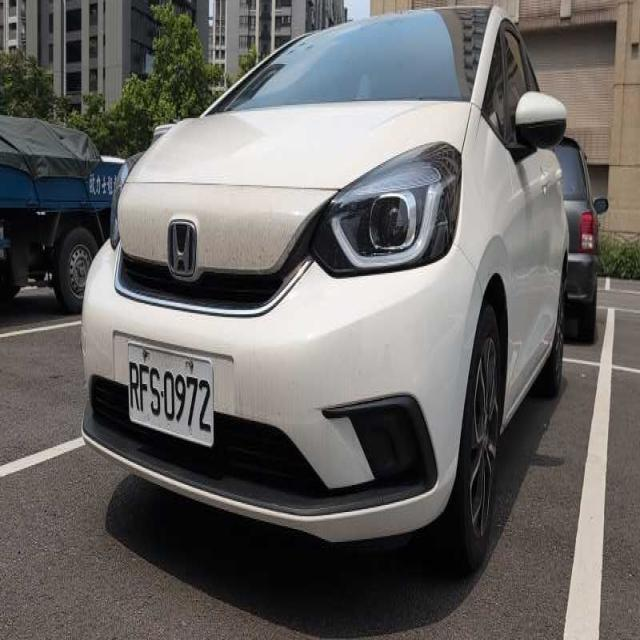license plate: (126, 341, 213, 445)
wheel: (446, 300, 501, 569)
